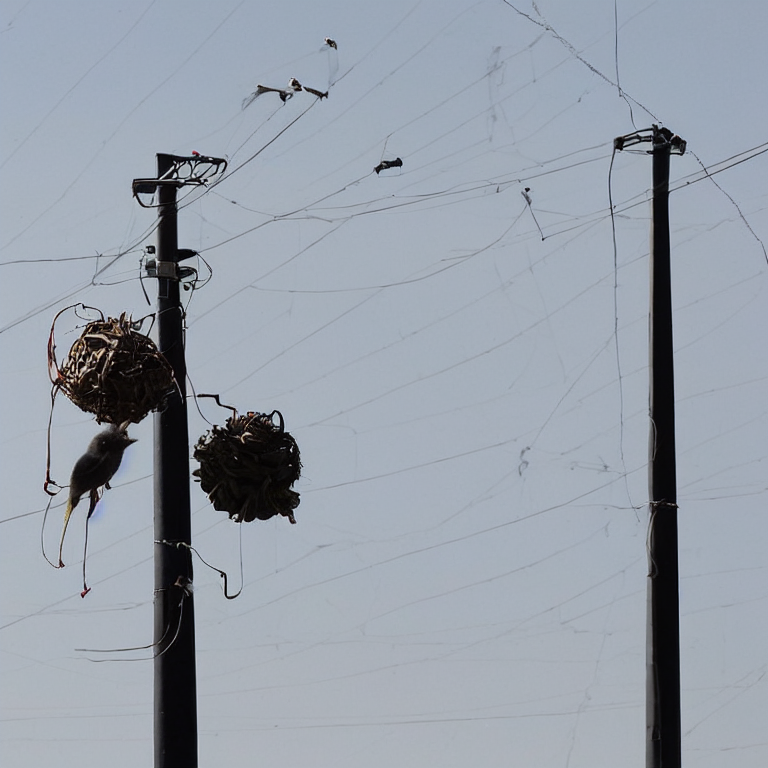nest: (194, 415, 305, 522), (58, 323, 161, 424)
